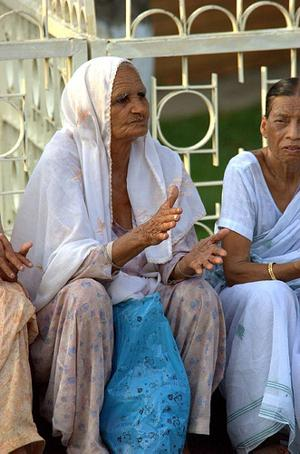person: (9, 55, 228, 453)
